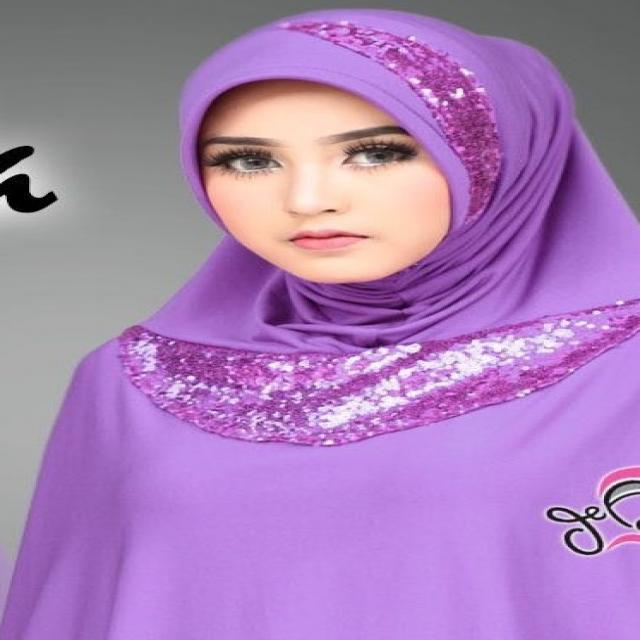head: (166, 11, 596, 292)
